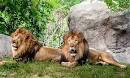lion: (63, 33, 125, 69), (5, 30, 62, 61)
